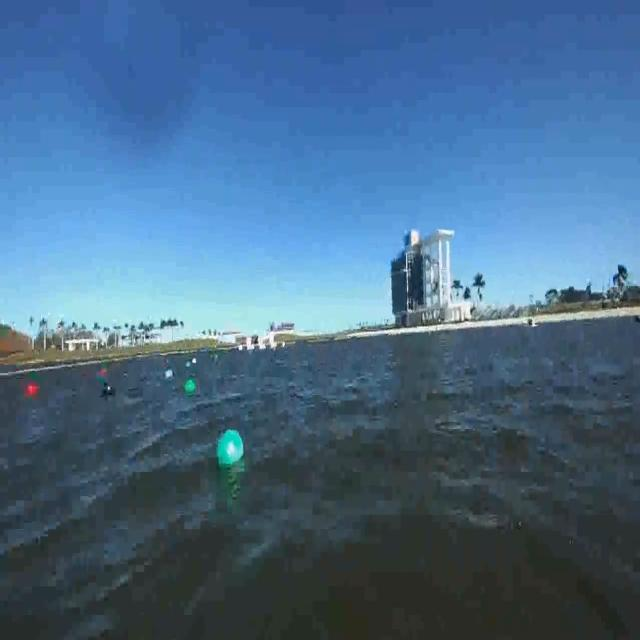black-buoy: (102, 388, 114, 398)
green-buoy: (218, 429, 246, 471), (183, 377, 196, 396)
red-buoy: (27, 382, 39, 398)
